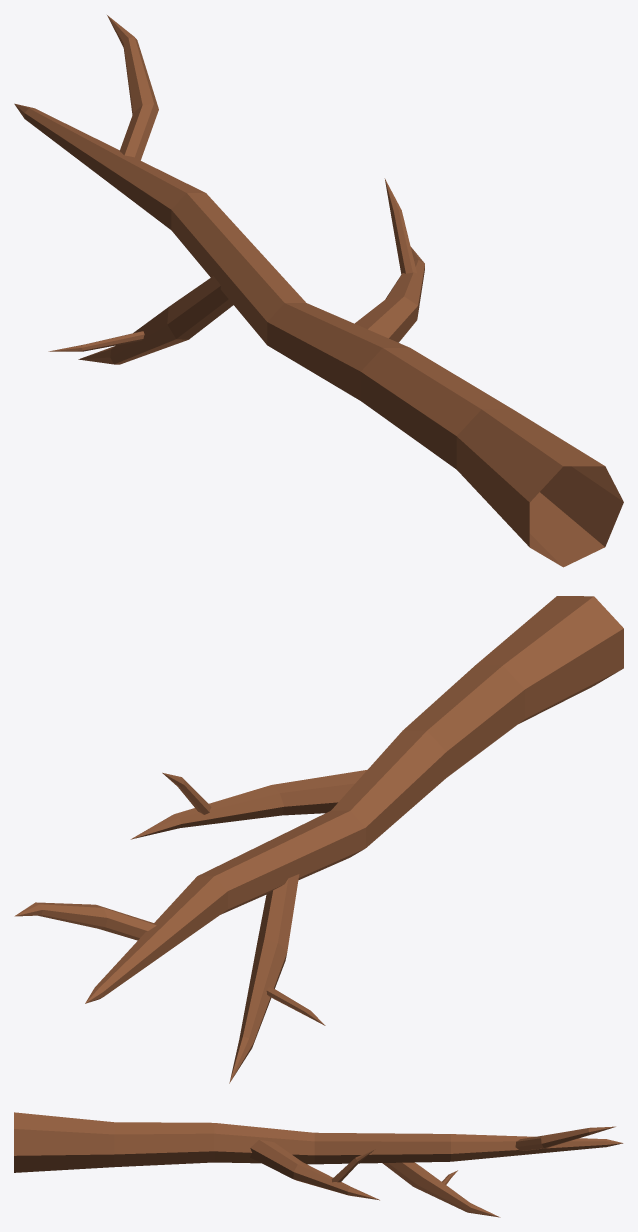
File: SM_Tree4Rotated.FBX
3 renders of one model, top to bottom at view 1: azimuth 30°, elevation 25°; view 2: azimuth 150°, elevation 25°; view 3: azimuth 270°, elevation 25°, orthographic. The views are drawn at different scales.
Parts seen in each view (by area): view 1: SM_Tree4; view 2: SM_Tree4; view 3: SM_Tree4.
Boxes of the visible parts, <box> form: SM_Tree4: <box>14,15,623,567</box>; SM_Tree4: <box>14,596,623,1083</box>; SM_Tree4: <box>14,1112,623,1217</box>.
Bounding box in the file's own units: 51.69 × 172 × 39.54.
